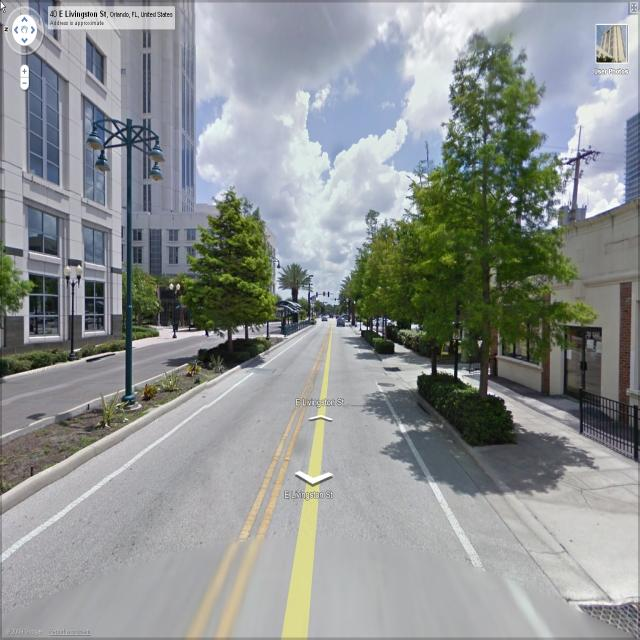b_1: (1, 1, 131, 334), (617, 111, 639, 206)
b_2: (107, 4, 280, 327), (476, 224, 634, 435)
